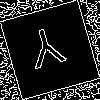Y: (24, 25, 70, 79)
